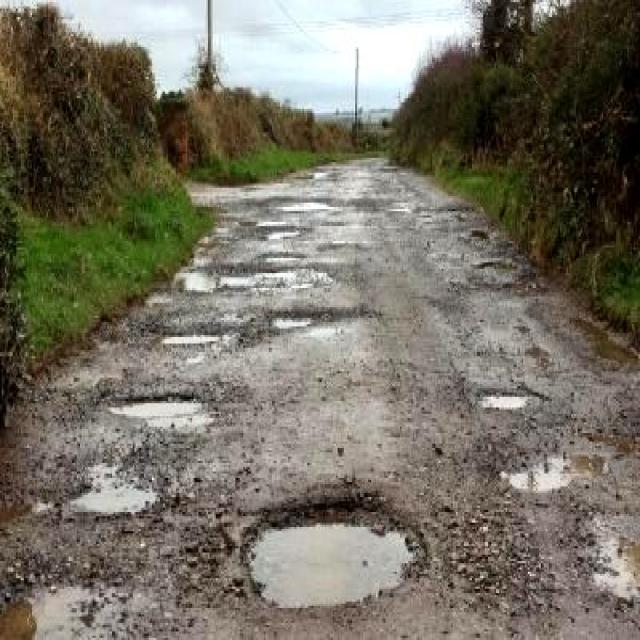pothole: (240, 495, 429, 610), (491, 442, 605, 491), (59, 463, 165, 514), (582, 518, 638, 604), (258, 300, 374, 330), (104, 390, 203, 416), (475, 382, 547, 407), (158, 324, 224, 350), (263, 246, 305, 270), (174, 267, 214, 290), (252, 222, 306, 239), (477, 258, 520, 275)
